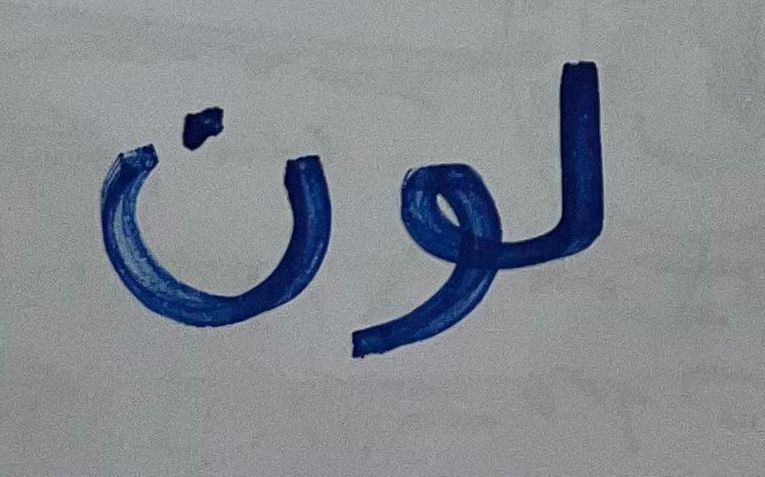lam: (512, 21, 662, 302)
noon: (82, 50, 341, 376)
waw: (345, 145, 508, 373)
